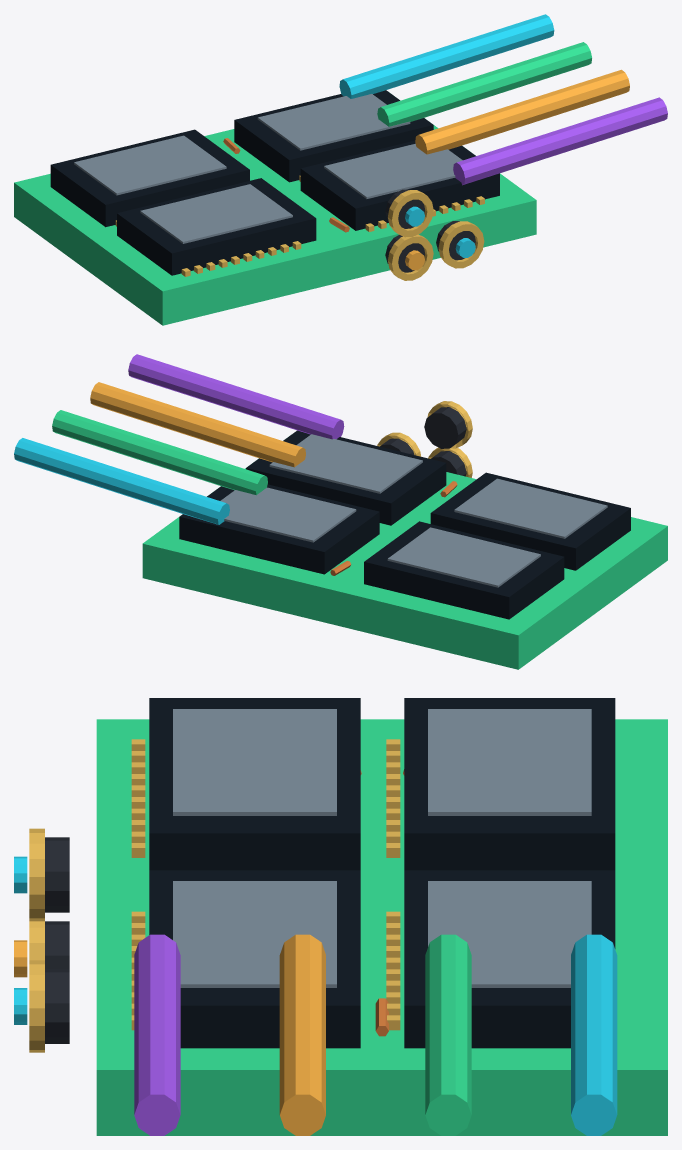
File: 08_L82_CoPackagedOpticalTransceiver.fbx
3 views of the same model, one above another, from view 1: azimuth 30°, elevation 25°; view 2: azimuth 150°, elevation 25°; view 3: azimuth 270°, elevation 25° (orthographic). The views are drawn at different scales.
Visible parts, largest first — view 1: CoPackagedOpticalTransceiver; view 2: CoPackagedOpticalTransceiver; view 3: CoPackagedOpticalTransceiver.
Part boxes in pixels (box(x1,y1,x2,y2)): CoPackagedOpticalTransceiver: box(14, 14, 667, 325); CoPackagedOpticalTransceiver: box(14, 354, 667, 669); CoPackagedOpticalTransceiver: box(14, 698, 667, 1135).
Bounding box in the file's own units: 173 × 28.82 × 98.85.
